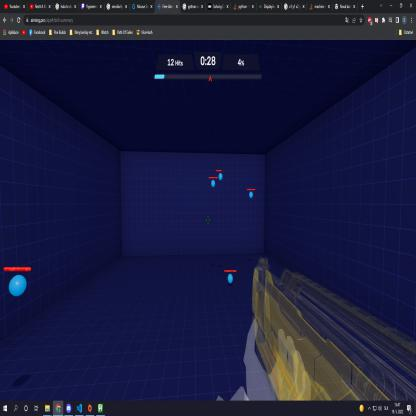sphere: (9, 272, 28, 298), (228, 273, 233, 284), (210, 180, 216, 187), (218, 173, 223, 181), (249, 192, 253, 198)
